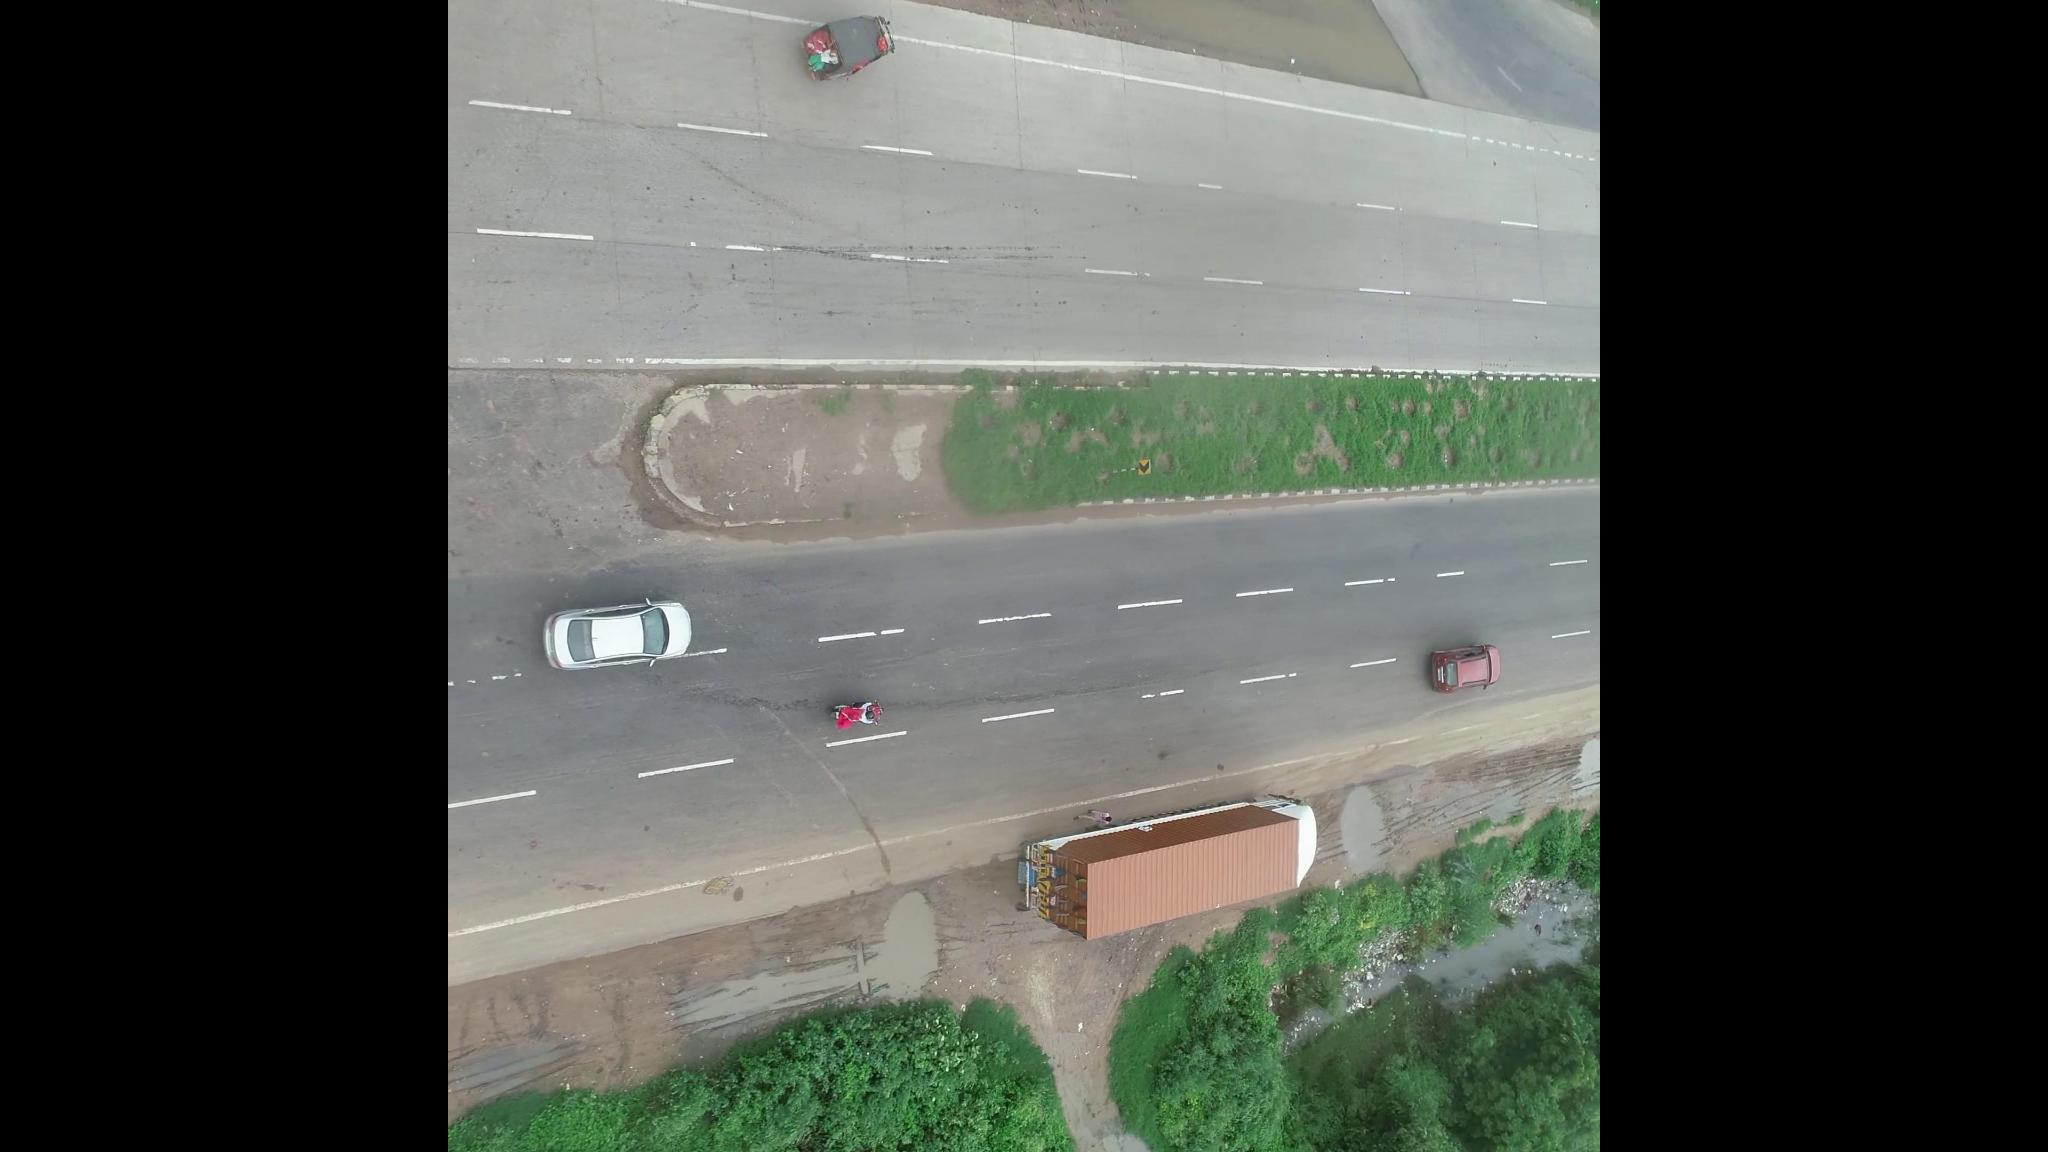Waterlogging: (964, 1, 1419, 118)
